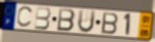1: (122, 13, 132, 37)
B: (56, 7, 76, 33), (101, 12, 120, 36), (34, 6, 52, 31)
C: (16, 6, 35, 29)
U: (77, 9, 97, 34)
